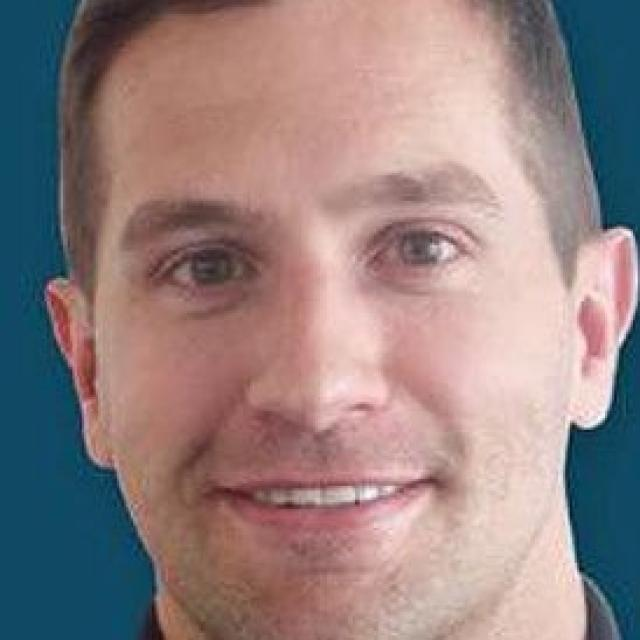Normal: (90, 2, 582, 638)
